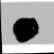correct: (12, 14, 39, 44)
